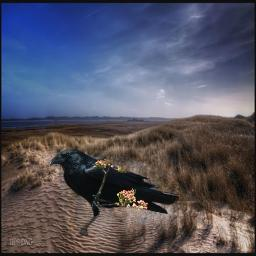Crow: (44, 146, 179, 236)
